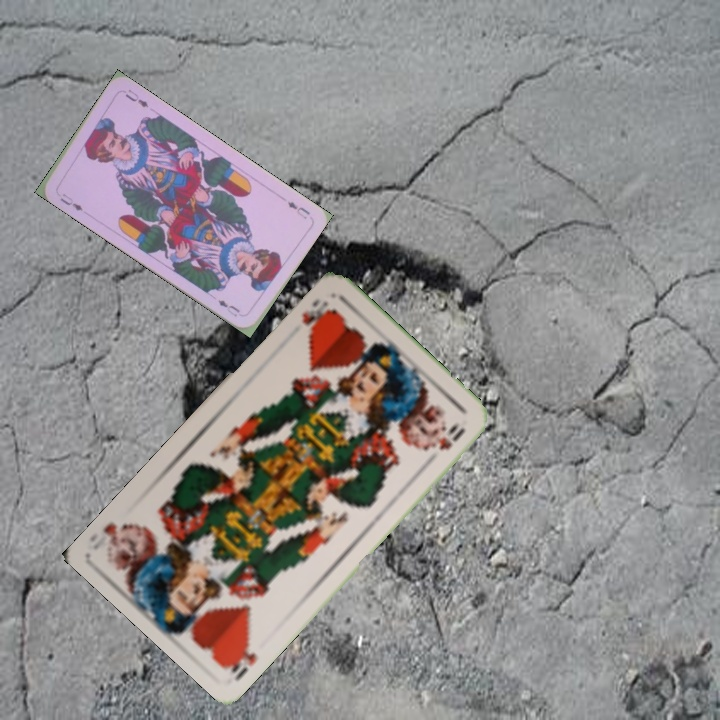EU: (283, 197, 313, 222), (56, 189, 85, 214)
HO: (220, 635, 260, 683), (298, 294, 337, 334)
